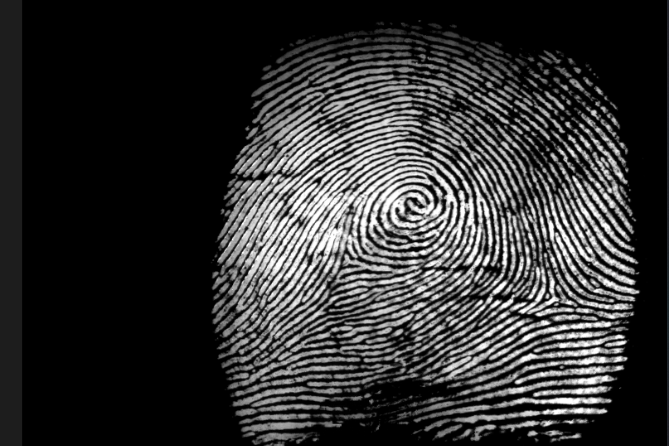deltas: (517, 256, 575, 315), (318, 228, 370, 281)
nucleo: (375, 169, 443, 235)
